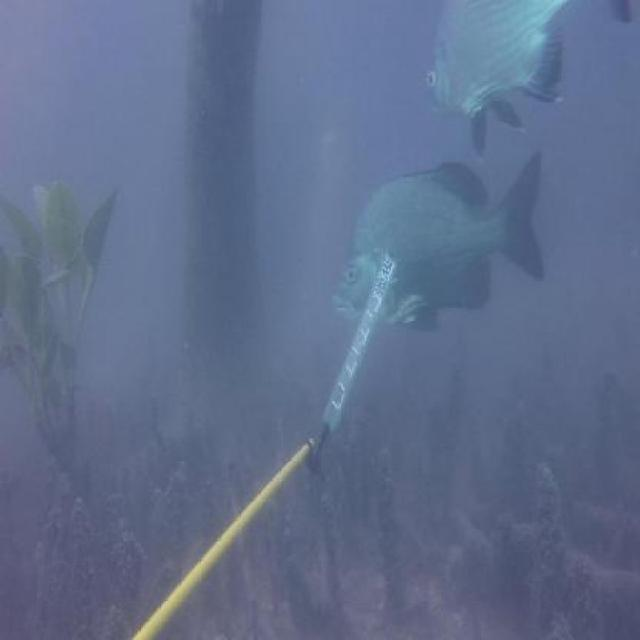acanthopagrus_palmaris: (325, 154, 550, 338), (423, 1, 575, 161)
